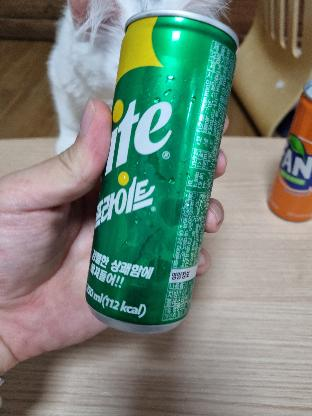Can: (74, 11, 239, 333)
